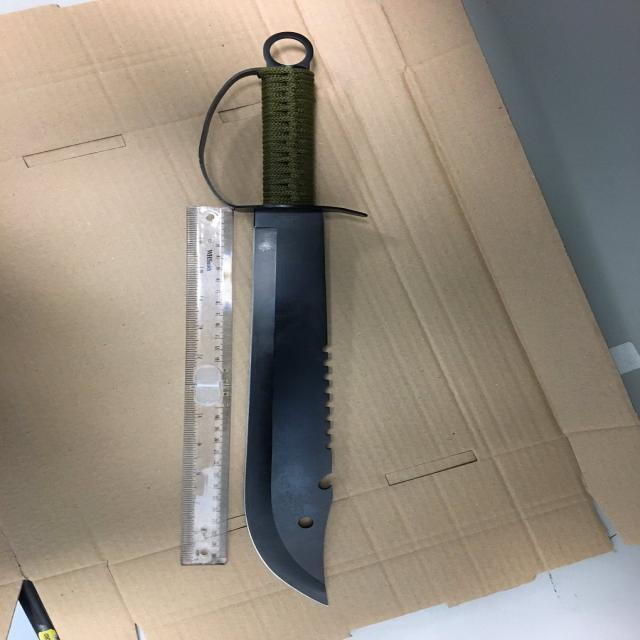Sharp-Object: (189, 31, 340, 605)
